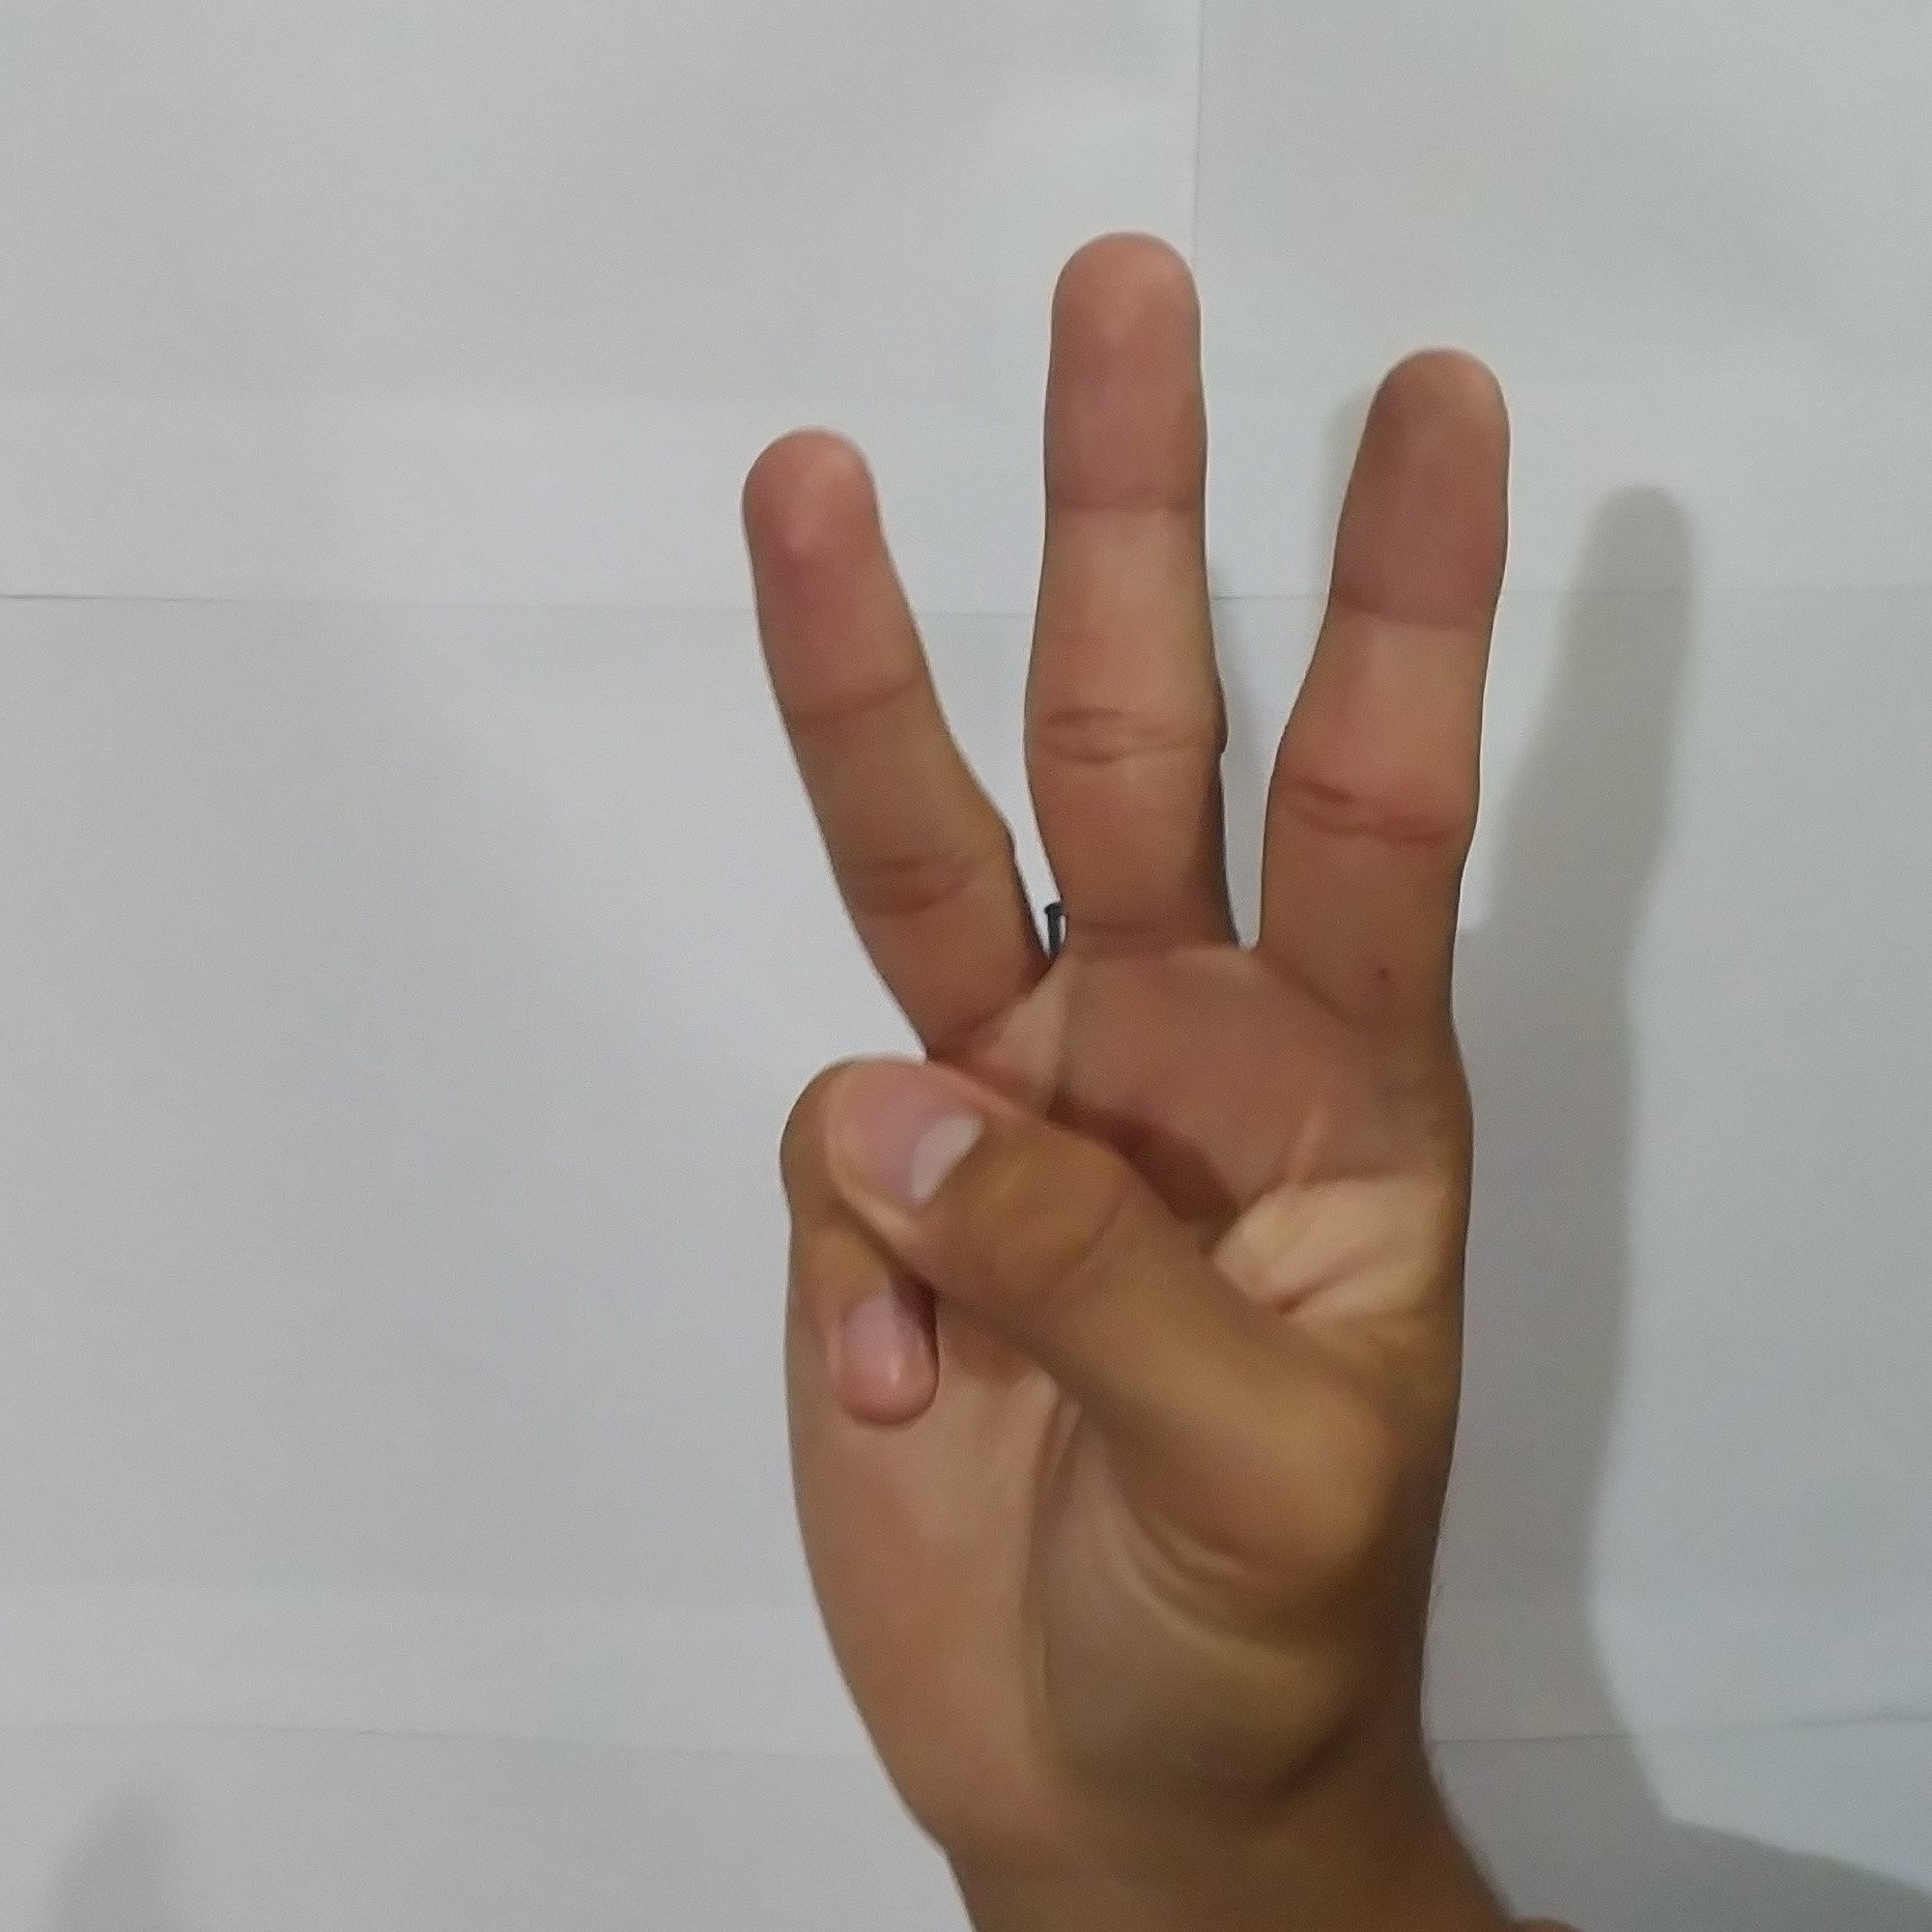W: (697, 209, 1546, 1810)
